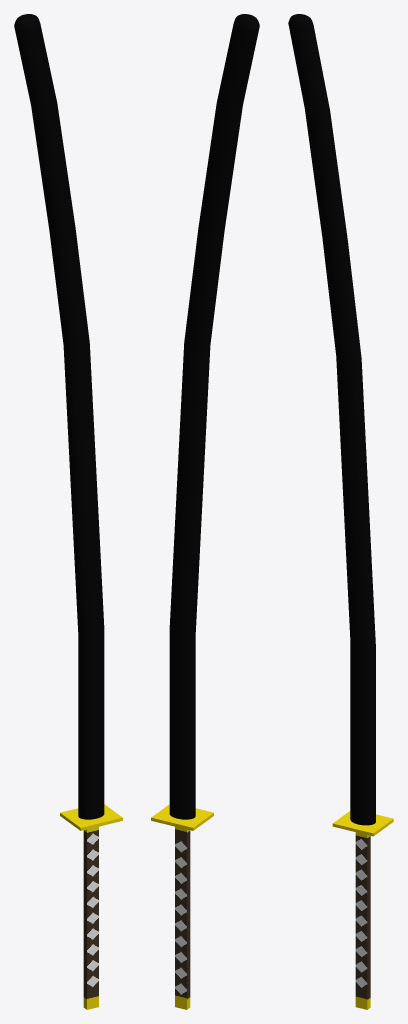
Rendered from masamune-scabbard-united.obj.
3 renders of one model, left to right at view 1: azimuth 30°, elevation 25°; view 2: azimuth 150°, elevation 25°; view 3: azimuth 330°, elevation 25°, orthographic. The views are drawn at different scales.
Visible parts, largest first — view 1: sword; view 2: sword; view 3: sword.
Boxes of the visible parts, bbox=[...] form: sword: bbox=[14, 14, 122, 1009]; sword: bbox=[151, 14, 259, 1009]; sword: bbox=[288, 14, 393, 1009].
Bounding box in the file's own units: 3.23 × 31.97 × 1.2.
